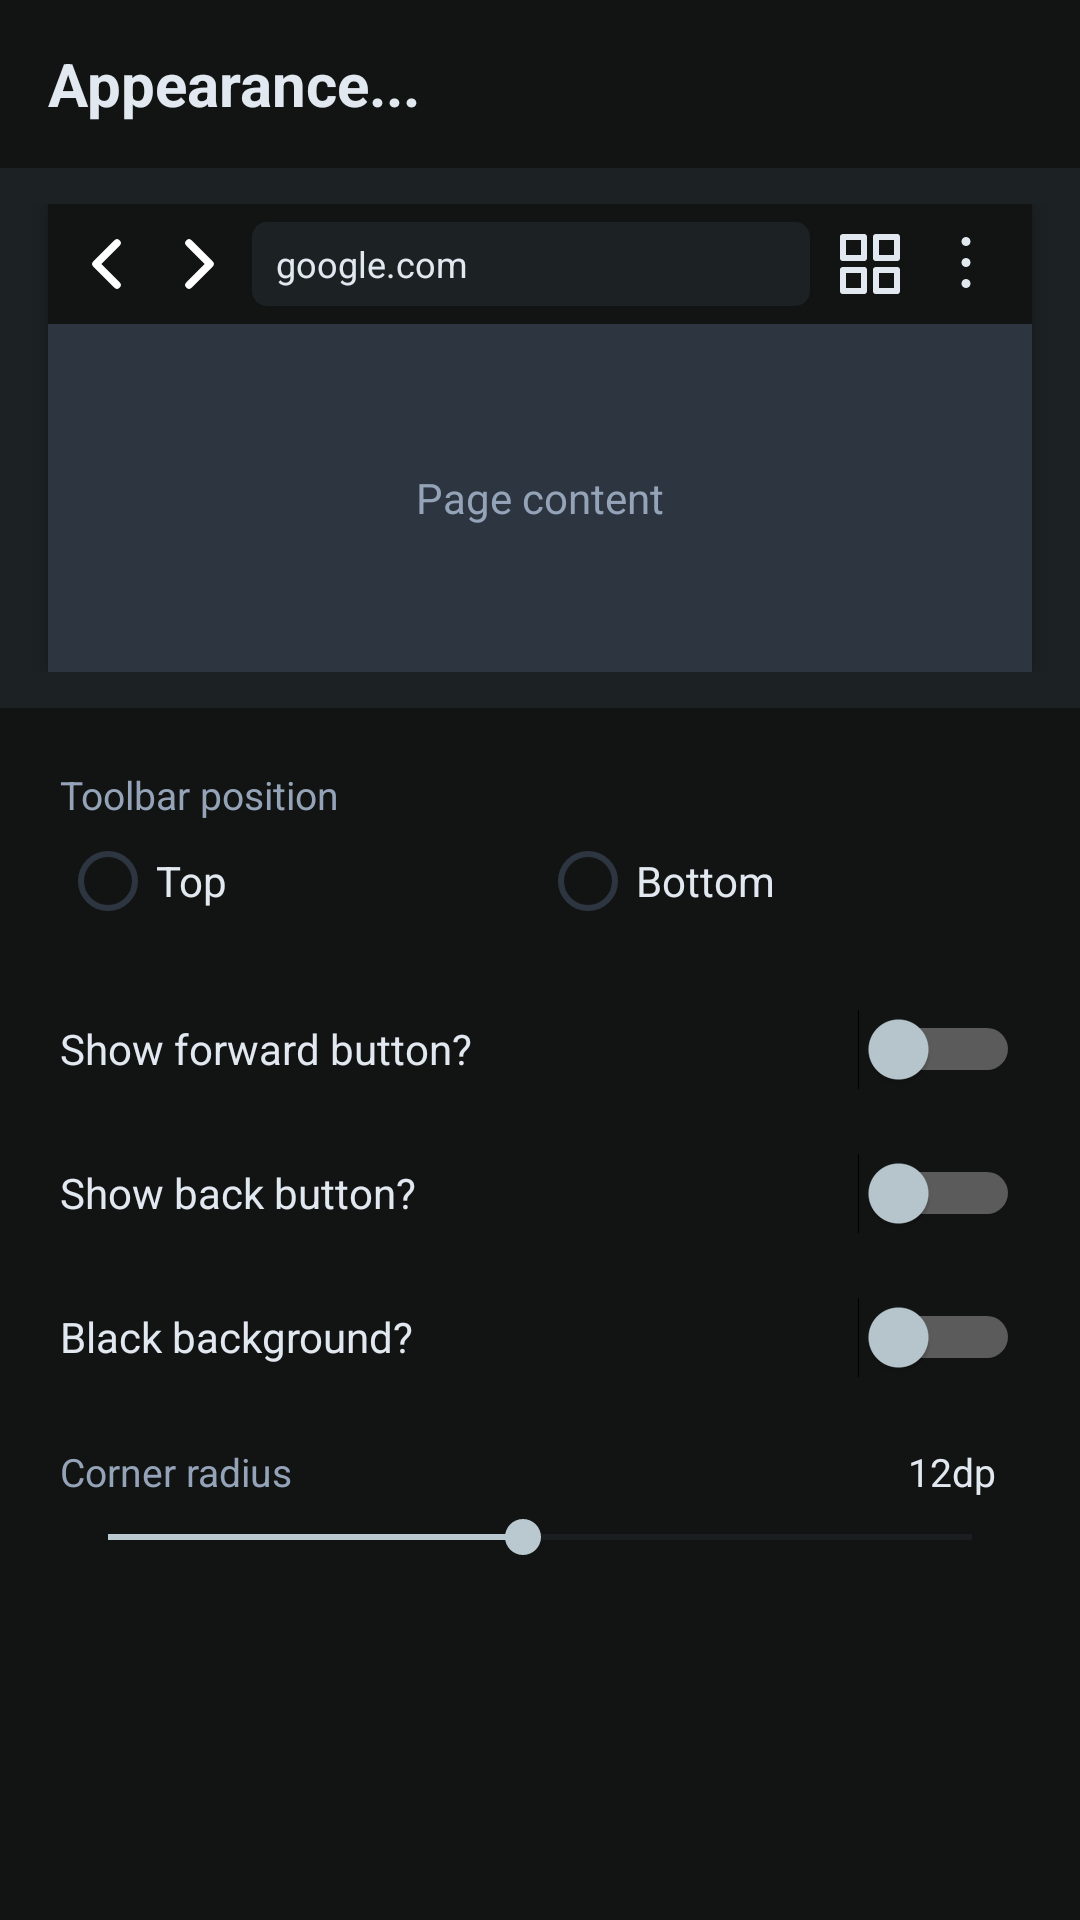

Icon click points for this 1080 x 1920 phone screenshot, format [x,y]:
more menu: [966,262]
suda: [106,264]
tabs grid: [870,264]
tuda: [199,264]
